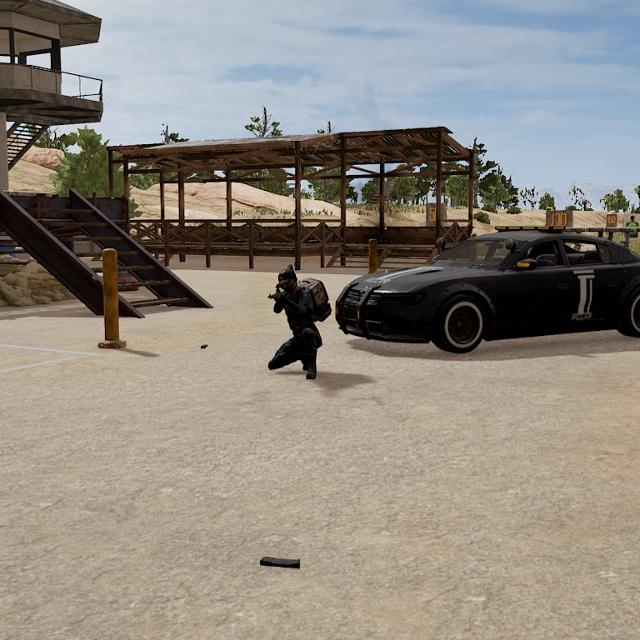head: (274, 266, 301, 299)
people: (264, 260, 338, 386)
